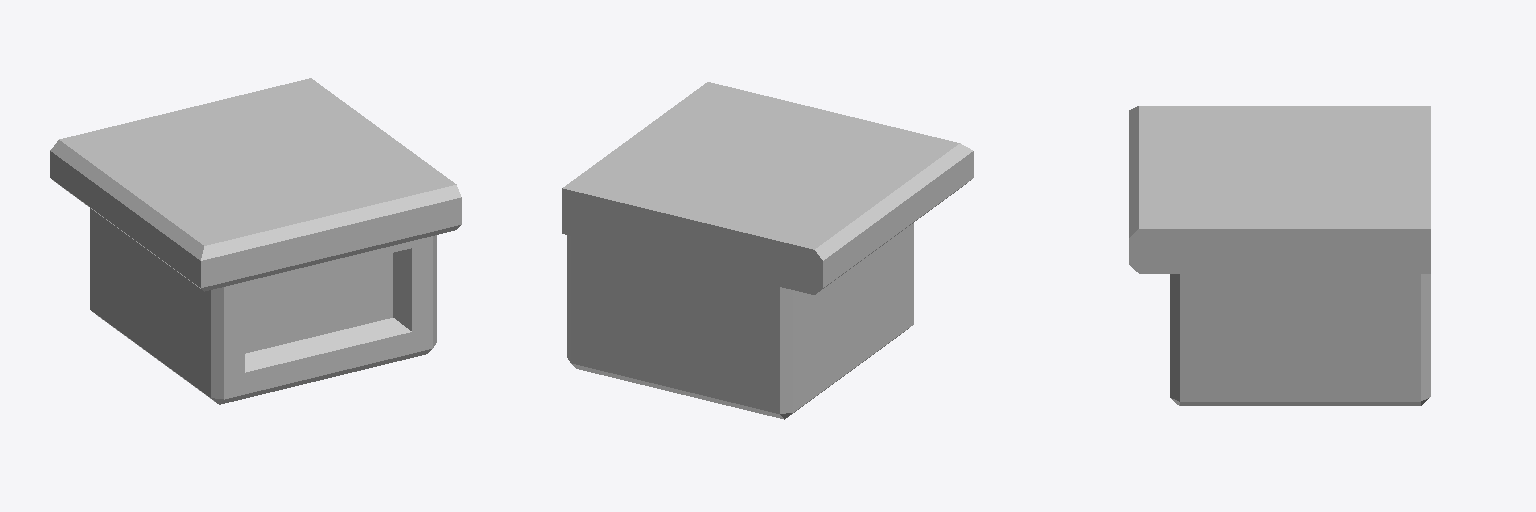
File: countertop_counter_outer.obj
3 views of the same model, side by side, from view 1: azimuth 30°, elevation 25°; view 2: azimuth 150°, elevation 25°; view 3: azimuth 270°, elevation 25° (orthographic).
Visible parts, largest first — view 1: countertop_counter_outer; view 2: countertop_counter_outer; view 3: countertop_counter_outer.
Boxes of the visible parts, box(x1,y1,x2,y2) form: countertop_counter_outer: box(50, 78, 461, 404); countertop_counter_outer: box(562, 82, 973, 419); countertop_counter_outer: box(1129, 106, 1430, 405).
Bounding box in the file's own units: 1.5 × 1 × 1.5.